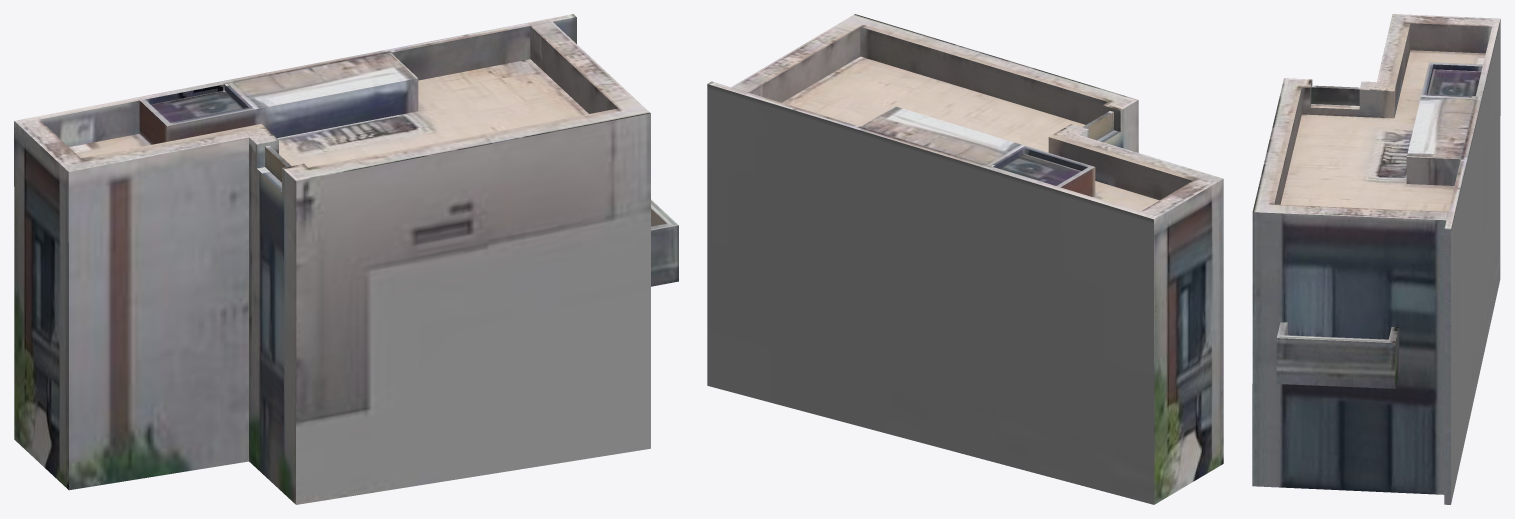
3 renders of one model, left to right at view 1: azimuth 30°, elevation 25°; view 2: azimuth 150°, elevation 25°; view 3: azimuth 270°, elevation 25°, orthographic. The views are drawn at different scales.
Parts seen in each view (by area): view 1: B286354032401062A0; view 2: B286354032401062A0; view 3: B286354032401062A0.
Part boxes in pixels (left/top/right/bottom): B286354032401062A0: left=14, top=14, right=678, bottom=504; B286354032401062A0: left=707, top=14, right=1223, bottom=504; B286354032401062A0: left=1252, top=14, right=1500, bottom=504.
Bounding box in the file's own units: 16.18 × 9.44 × 7.71.
1 material, 1 textured.
